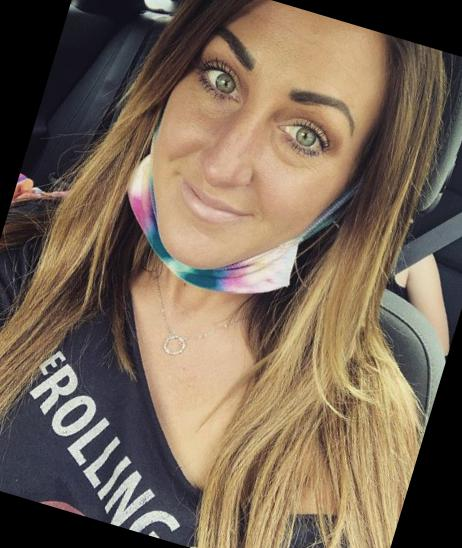mask_weared_incorrect: (123, 22, 362, 316)
